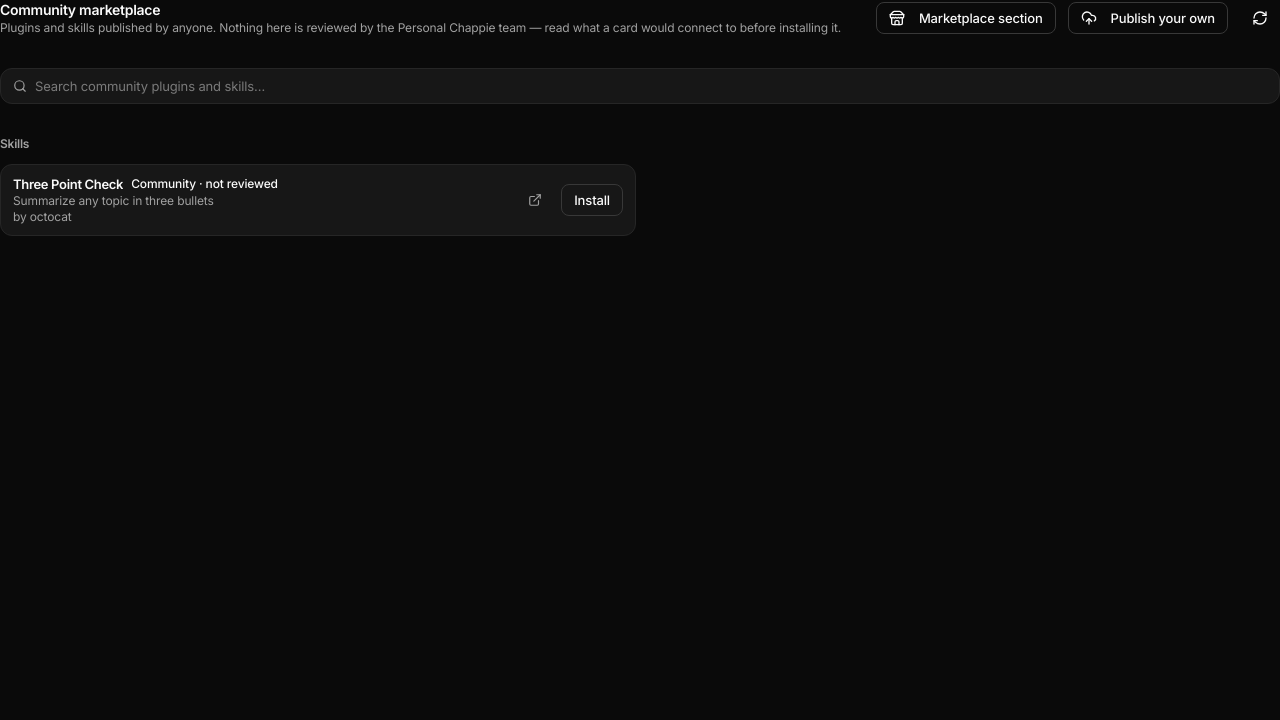
Test: reading an entry before installing it › shows the published SKILL.md text when a skill card is opened
Click the button titled "Read what Three Point Check" at [68, 184], box [13, 175, 509, 225]
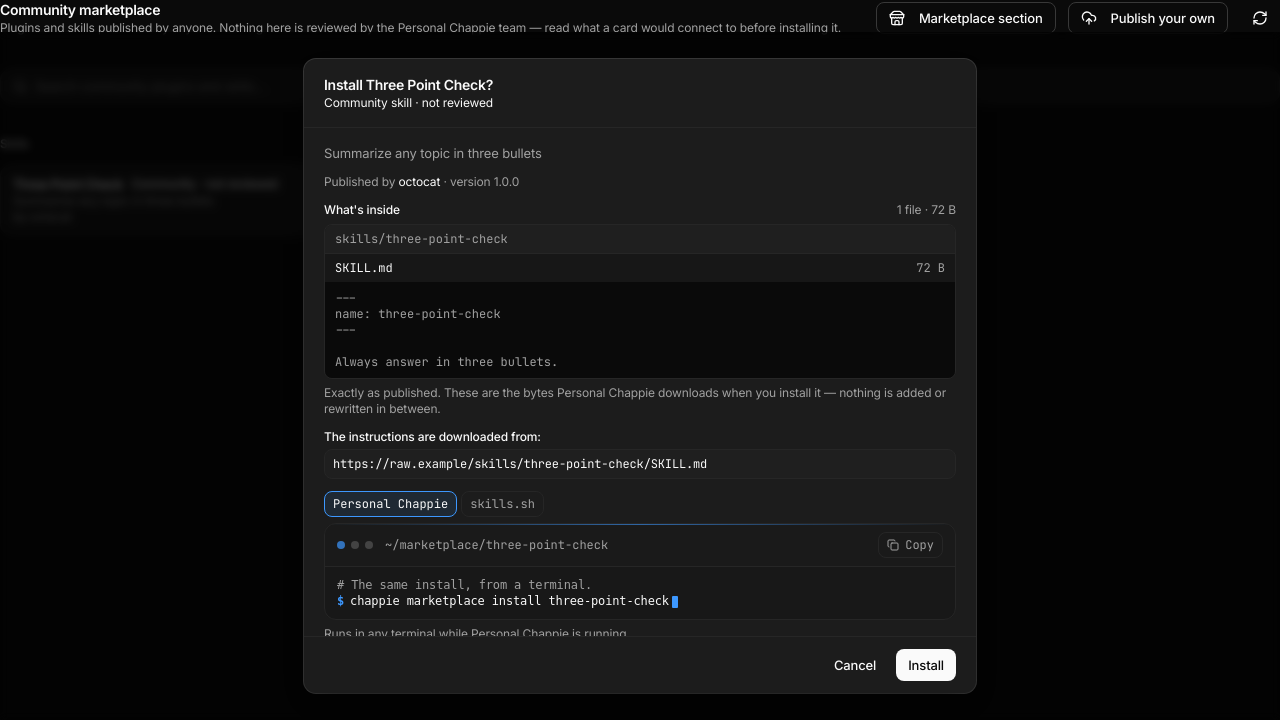
Expected: the text "Always answer in three bullets" is shown, [335, 290, 558, 370]
Expected: the text "skills/three-point-check" is shown, [325, 225, 955, 254]
Expected: the text "SKILL.md" is shown, [335, 260, 393, 276]
